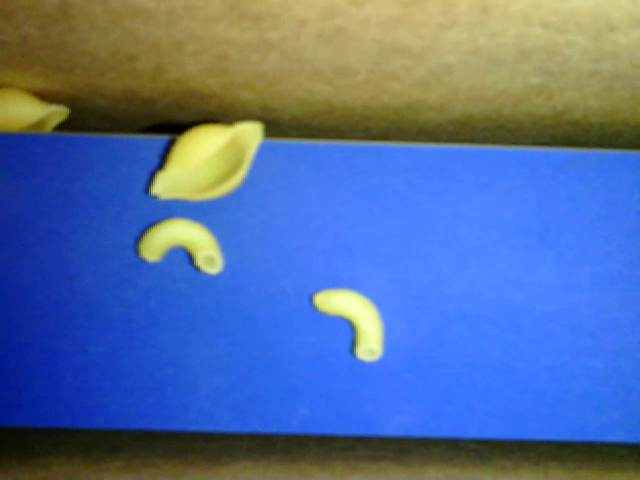elbow: (135, 216, 225, 276), (312, 285, 383, 360)
shell: (148, 116, 266, 201), (1, 89, 74, 133)
